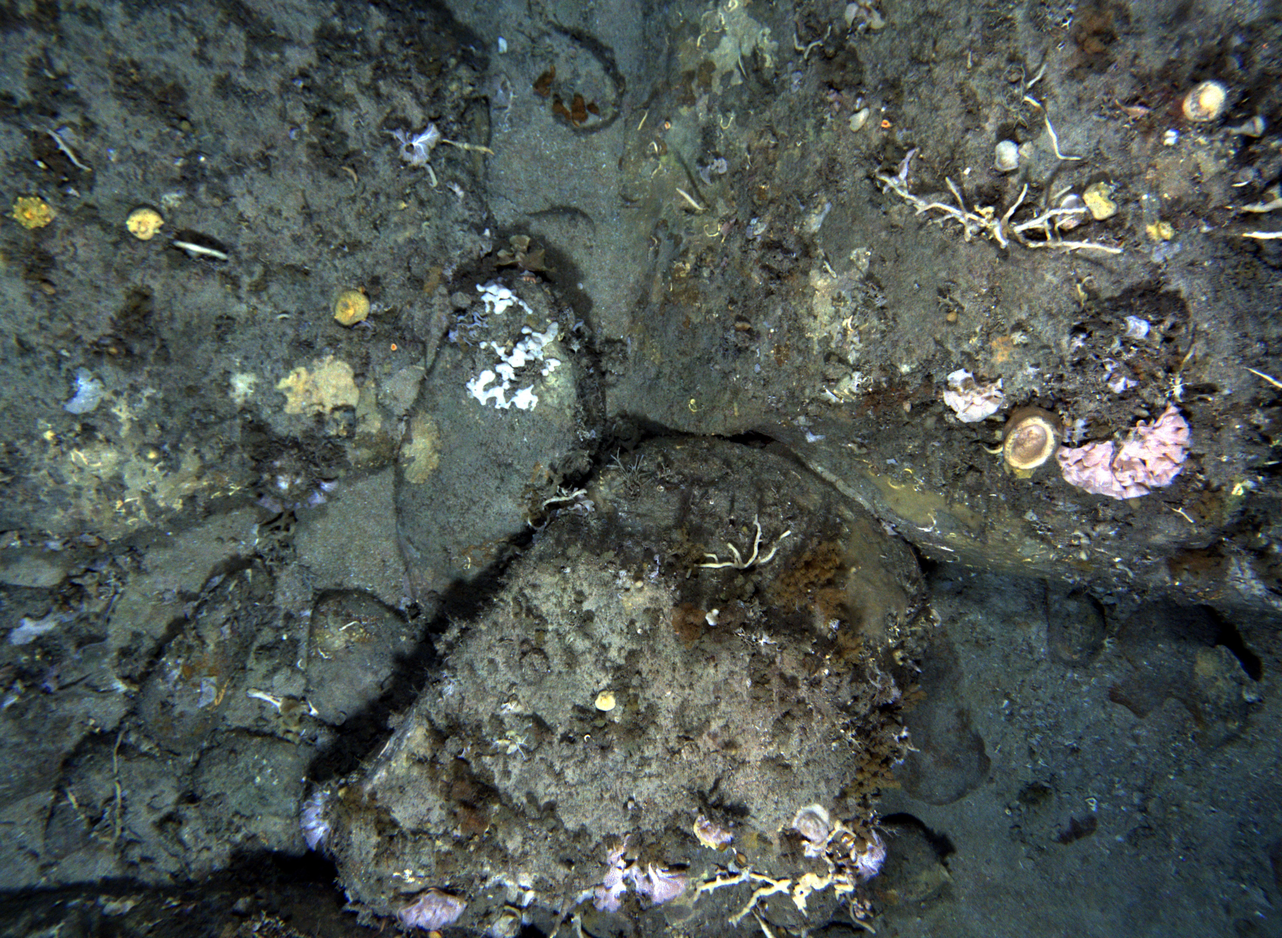Brachionichthyidae: (1113, 96, 1153, 126)
